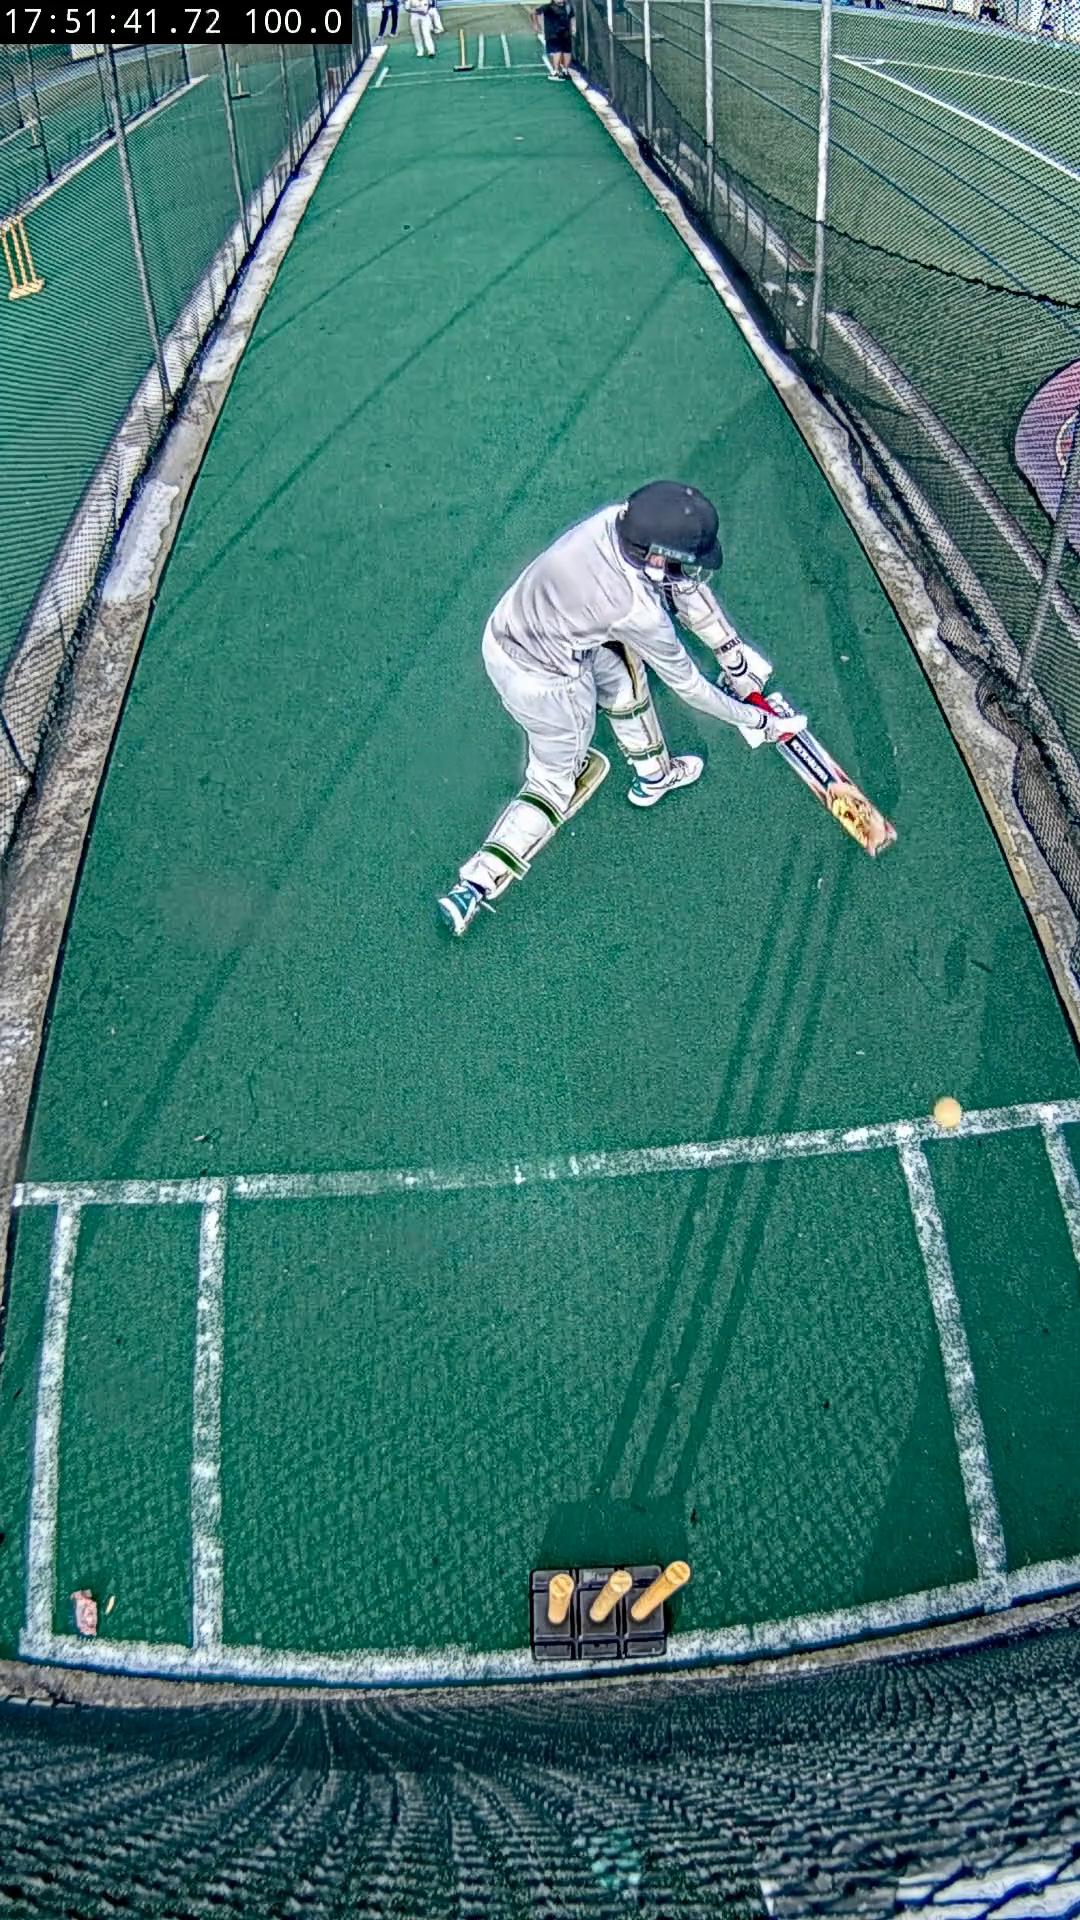ball: (934, 1095, 964, 1129)
bat: (777, 728, 897, 855), (750, 690, 783, 716)
helmet: (618, 480, 724, 582)
pads: (563, 750, 612, 819)
stumps: (529, 1560, 690, 1665)
